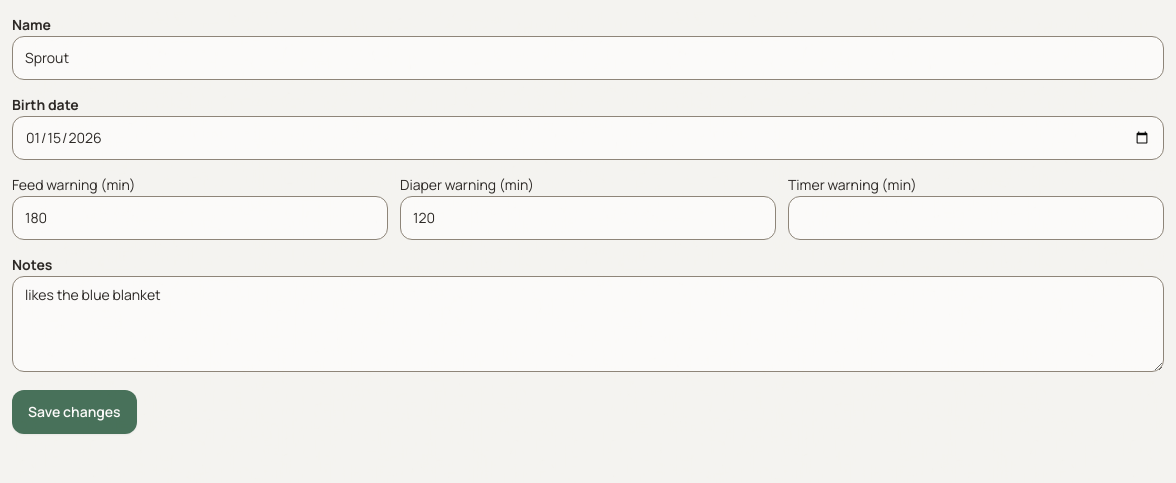
Test: the baby edit form › reports a refusal and does not claim to have saved
Replace the text in the field labelled "Name" with "Rosie": (588, 58) [12, 36, 1164, 80]
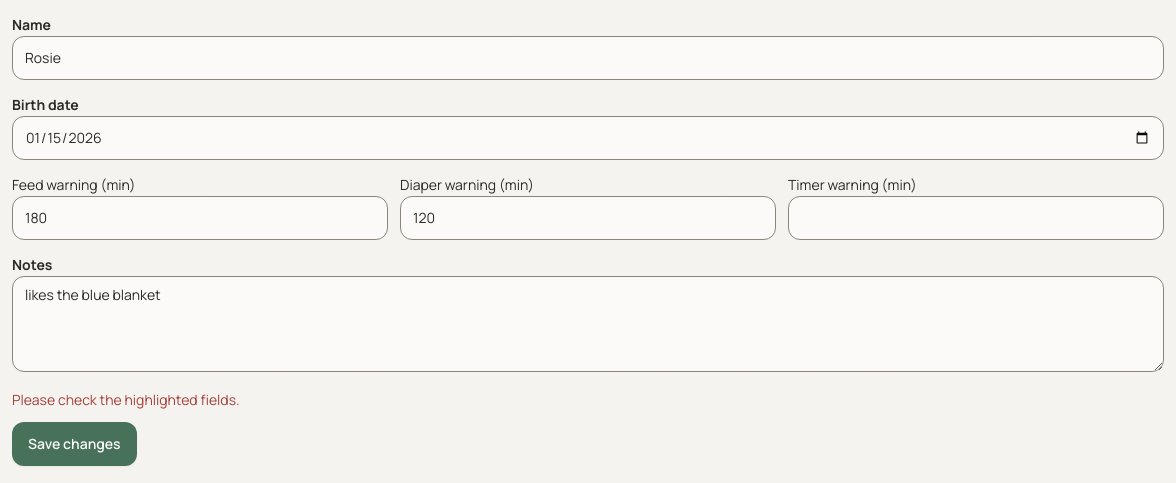
Now the message reads "Please check the highlighted fields.", box [12, 390, 240, 409]
